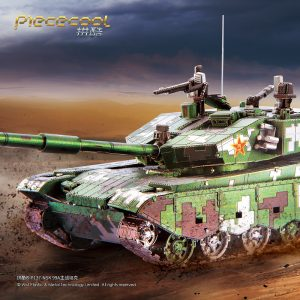Battle Tank: (21, 99, 300, 264)
